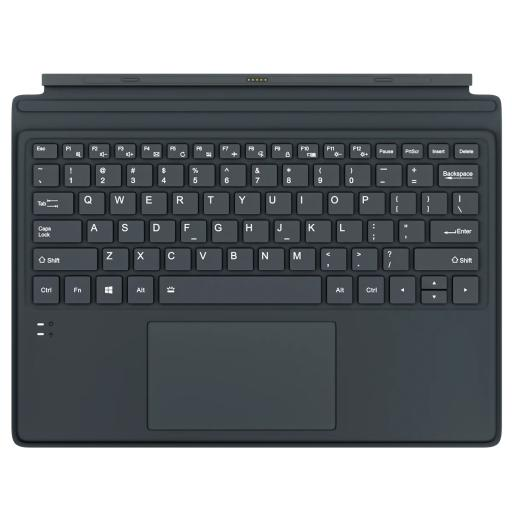KEYBOARD-2: (12, 73, 502, 445)
